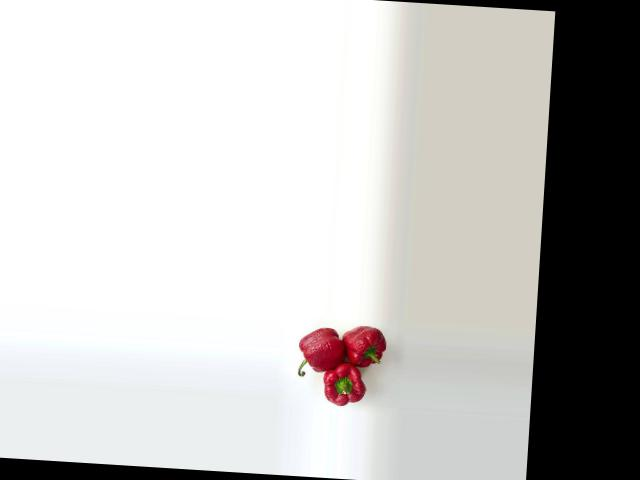bell_pepper: (286, 323, 342, 381)
